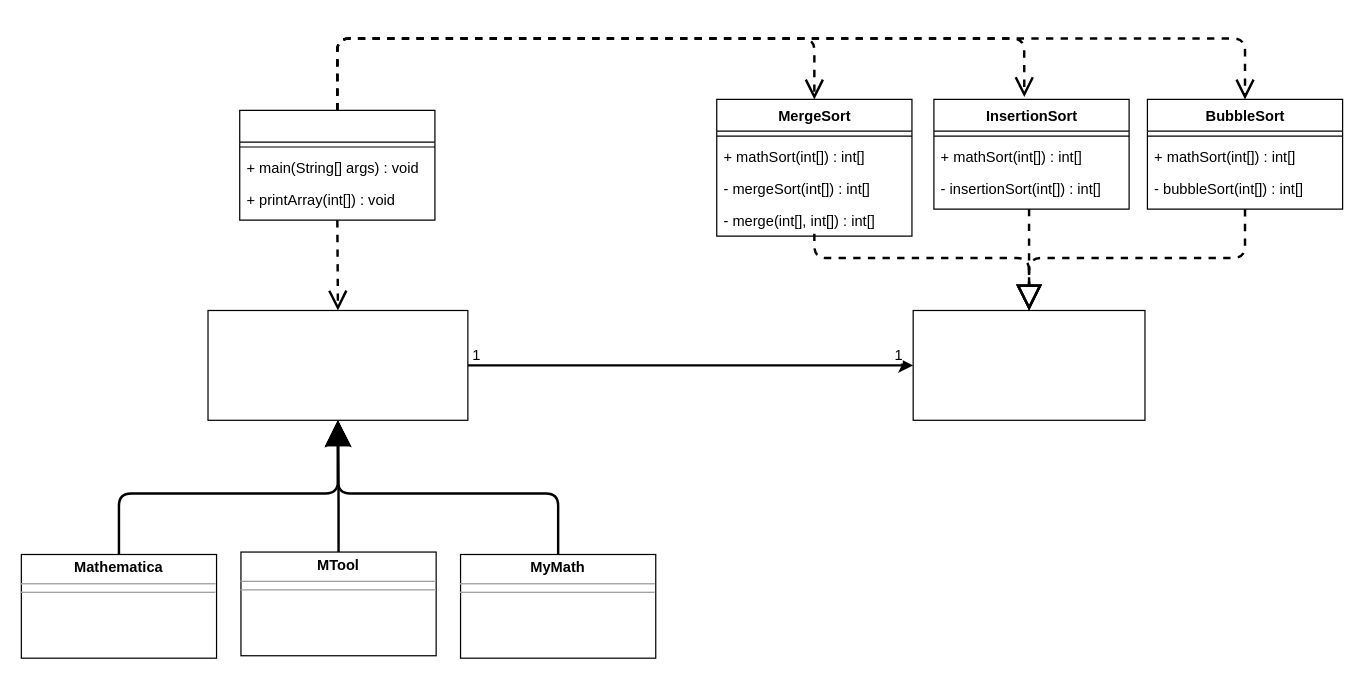
This 1364x680 diagram has some shape labels left out. The shapes that lost their labels are listed below. From the top down, each one's box as (x1, y1, x2, y2) in pixels, then its label:
(239, 109, 435, 220): Client
(207, 309, 468, 420): MathSoftware - strategy: SortStrategy +setSortStrategy(SortStrategy) : void
(912, 309, 1145, 420): <<Interface>> SortStrategy + mathSort(int[]): int[]
